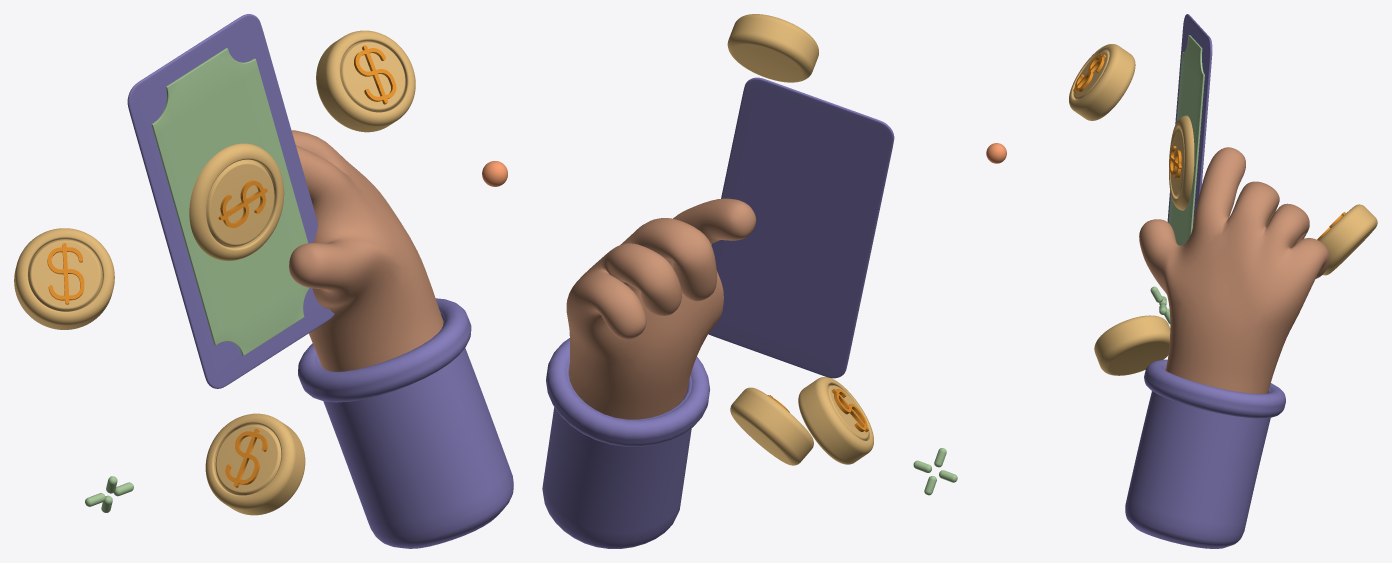
File: cash-3d-animated-icon-335300536370.glb
The picture shows the model from 3 angles, left to right: view 1: azimuth 30°, elevation 25°; view 2: azimuth 150°, elevation 25°; view 3: azimuth 270°, elevation 25°; orthographic projection. The views are drawn at different scales.
Parts seen in each view (by area): view 1: HAND.001, Plane.003, HAND.003, Plane.002, Cylinder.003, Cylinder.004, Cylinder.009, Cylinder.002, HAND.002, Curve.002, Curve, Curve.001 (+2 smaller); view 2: Plane.002, HAND.003, HAND.001, HAND.002, Cylinder.002, Cylinder.009, Cylinder.004, Cylinder.020, Curve; view 3: HAND.003, HAND.001, HAND.002, Cylinder.009, Plane.003, Cylinder.002, Cylinder.004, Plane.002, Cylinder.003.
Part boxes in pixels (box(x1,y1,x2,y2)): HAND.001: box(315, 311, 513, 548); Plane.003: box(151, 48, 309, 355); HAND.003: box(289, 130, 443, 371); Plane.002: box(127, 14, 334, 388); Cylinder.003: box(189, 143, 284, 260); Cylinder.004: box(14, 228, 114, 329); Cylinder.009: box(205, 413, 305, 515); Cylinder.002: box(316, 30, 415, 132); HAND.002: box(298, 298, 471, 402); Curve.002: box(354, 45, 396, 104); Curve: box(225, 428, 267, 487); Curve.001: box(218, 180, 267, 228); Plane.002: box(708, 77, 894, 378); HAND.003: box(566, 198, 756, 419); HAND.001: box(542, 360, 691, 548); HAND.002: box(546, 338, 710, 446); Cylinder.002: box(727, 14, 818, 82); Cylinder.009: box(798, 377, 873, 464); Cylinder.004: box(730, 387, 813, 465); Cylinder.020: box(913, 448, 957, 495); Curve: box(832, 388, 869, 432); HAND.003: box(1139, 147, 1329, 393); HAND.001: box(1125, 365, 1271, 548); HAND.002: box(1144, 359, 1285, 418); Cylinder.009: box(1094, 315, 1170, 375); Plane.003: box(1168, 35, 1204, 245); Cylinder.002: box(1069, 44, 1135, 120); Cylinder.004: box(1319, 204, 1377, 275); Plane.002: box(1167, 14, 1212, 224); Cylinder.003: box(1169, 115, 1194, 210).
Size of the model in its own units: 1.19 by 1.49 by 1.17.
